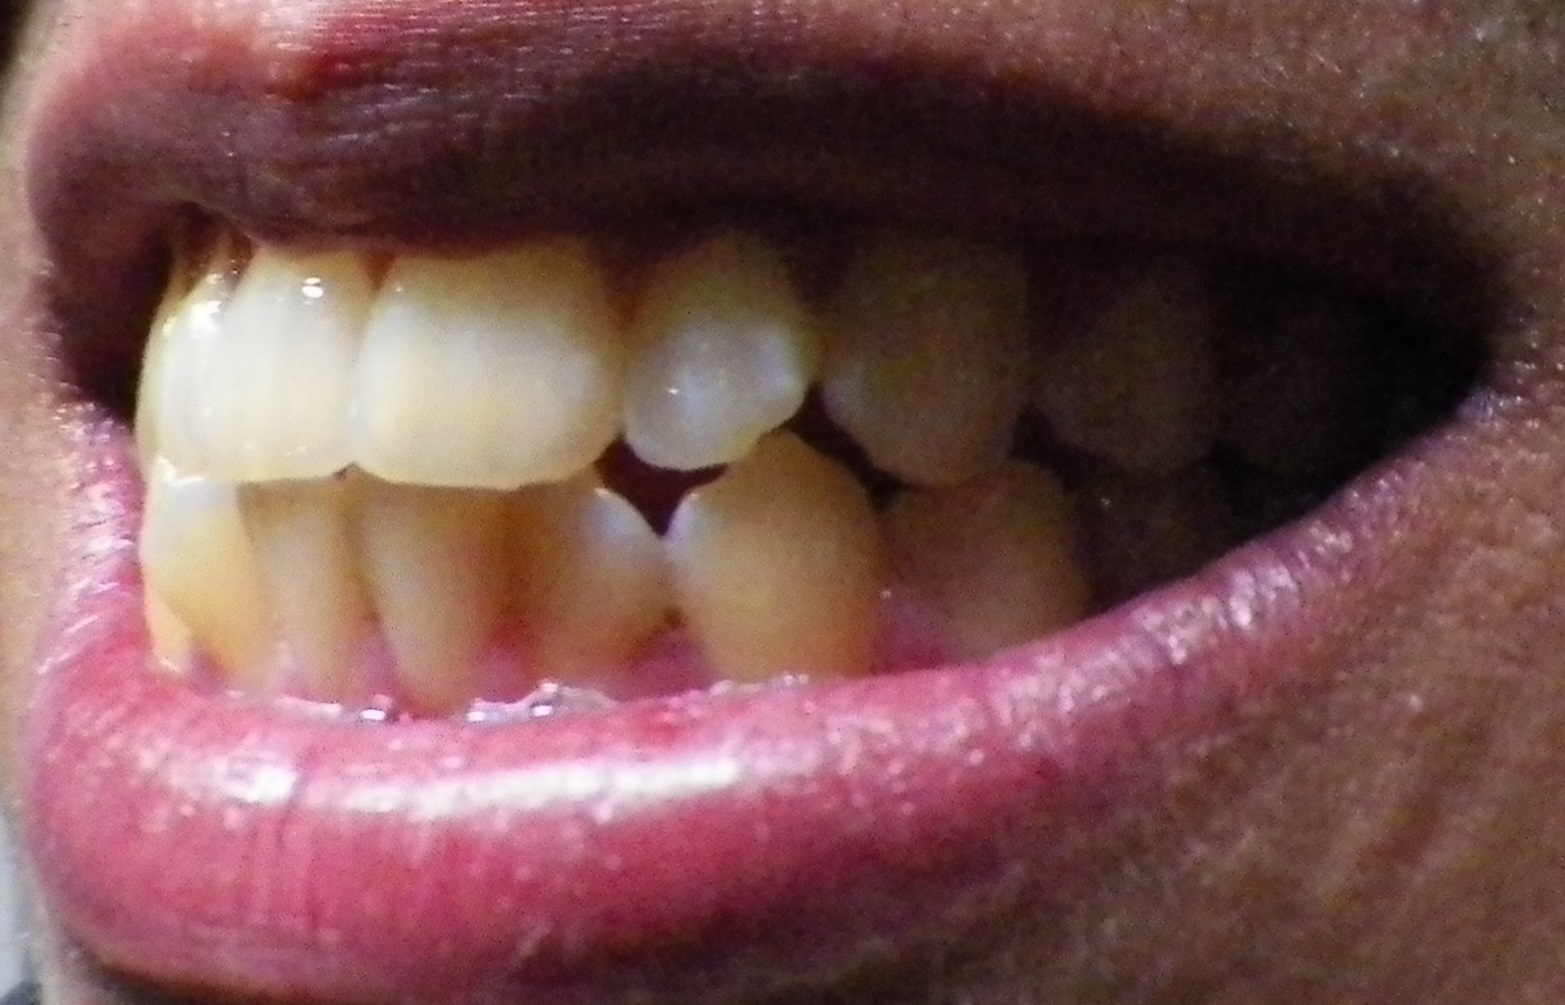boca: (143, 226, 1417, 695)
